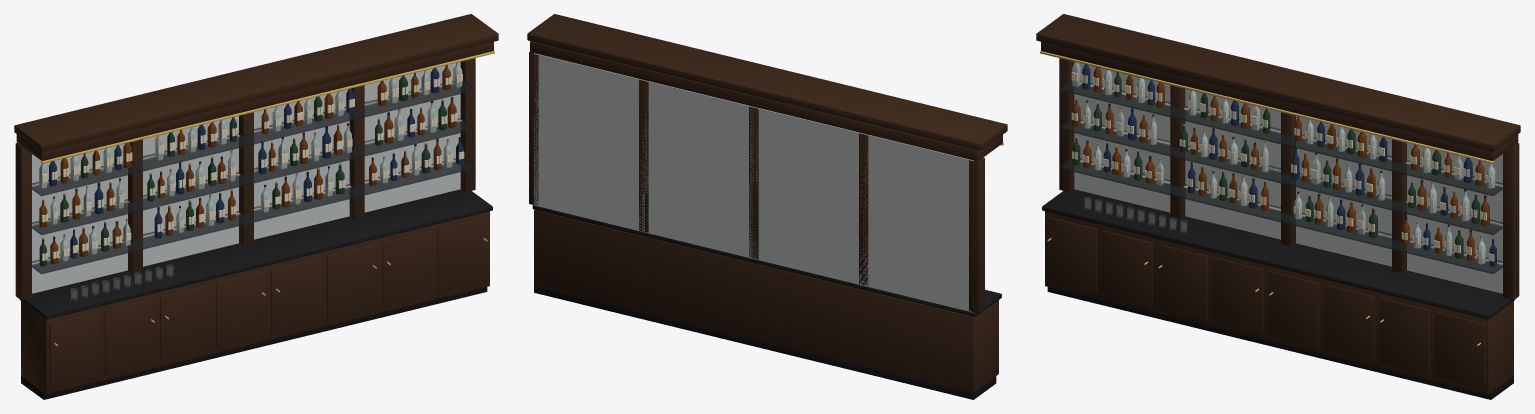
File: back_bar.glb
3 renders of one model, left to right at view 1: azimuth 30°, elevation 25°; view 2: azimuth 150°, elevation 25°; view 3: azimuth 330°, elevation 25°, orthographic.
Visible parts, largest first — view 1: back_bar; view 2: back_bar; view 3: back_bar.
Boxes of the visible parts, box(x1,y1,x2,y2) form: back_bar: box(14, 14, 498, 399); back_bar: box(527, 14, 1007, 399); back_bar: box(1036, 14, 1520, 399).
Bounding box in the file's own units: 5.16 × 2.8 × 0.58.
